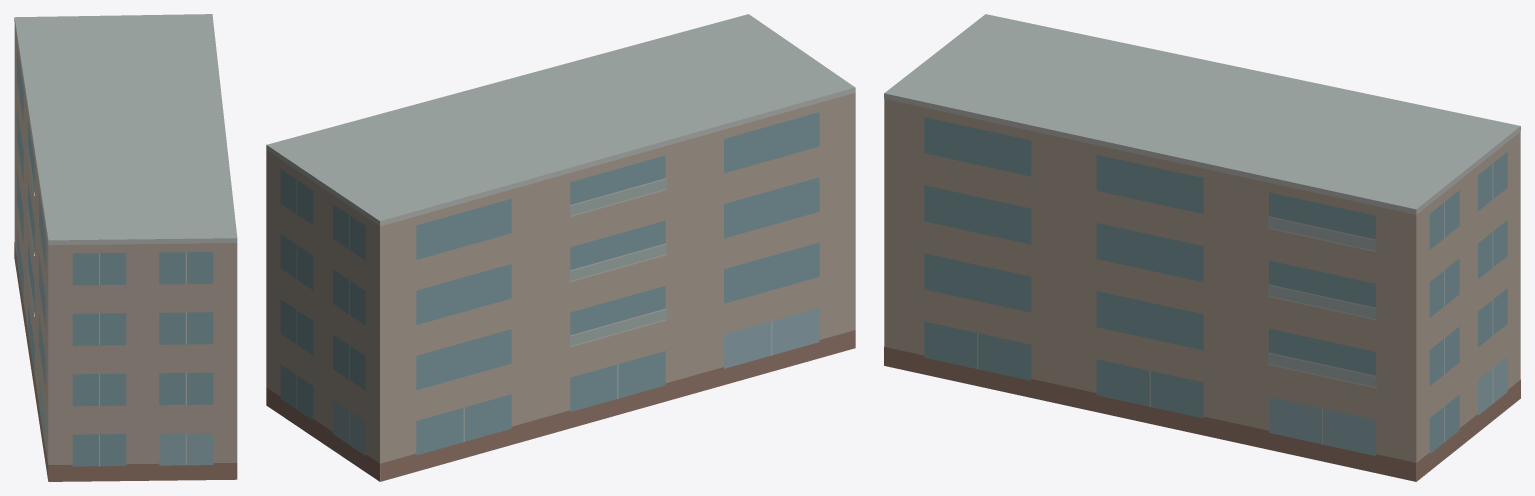
Rendered from survey-upis-32987508.glb.
3 views of the same model, side by side, from view 1: azimuth 30°, elevation 25°; view 2: azimuth 150°, elevation 25°; view 3: azimuth 270°, elevation 25° (orthographic). The views are drawn at different scales.
Parts seen in each view (by area): view 1: survey-upis-32987508.tmp; view 2: survey-upis-32987508.tmp; view 3: survey-upis-32987508.tmp.
Part boxes in pixels (x1,y1,x2,y2): survey-upis-32987508.tmp: (14,14,237,481); survey-upis-32987508.tmp: (266,14,855,481); survey-upis-32987508.tmp: (884,14,1520,481).
Size of the model in its own units: 18.78 by 12.2 by 25.85.
